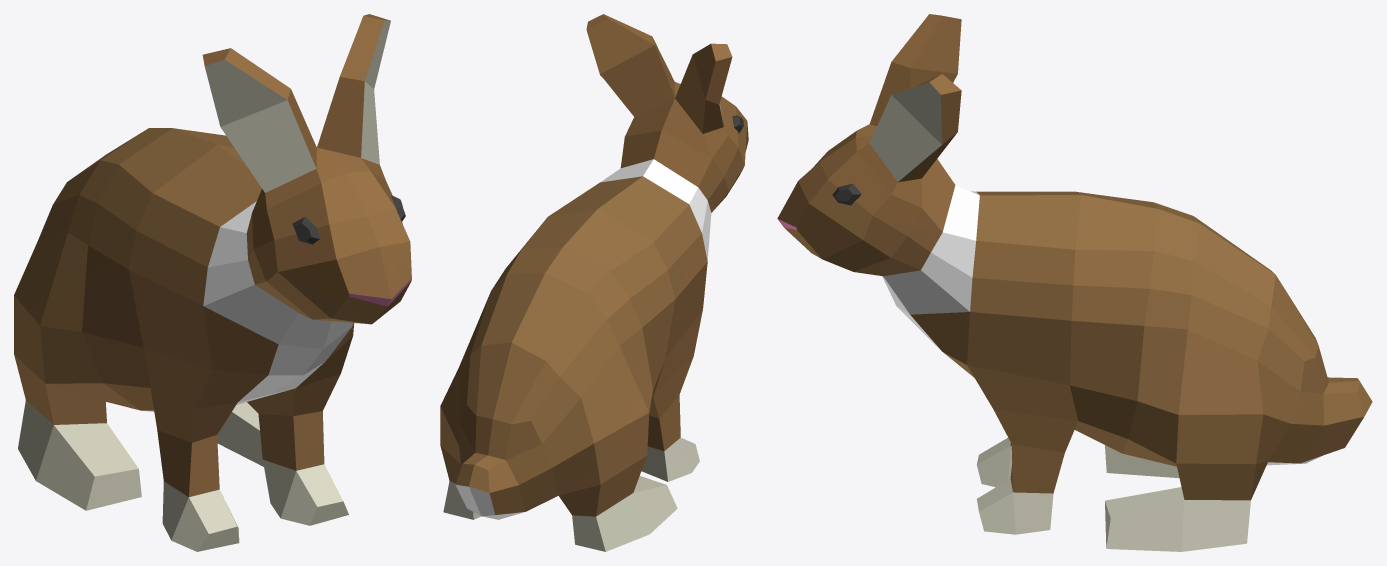
Rendered from bunny.fbx.
3 renders of one model, left to right at view 1: azimuth 30°, elevation 25°; view 2: azimuth 150°, elevation 25°; view 3: azimuth 270°, elevation 25°, orthographic. The views are drawn at different scales.
Parts seen in each view (by area): view 1: Plane.002; view 2: Plane.002; view 3: Plane.002.
Part boxes in pixels (x1,y1,x2,y2): Plane.002: (14, 14, 411, 551); Plane.002: (440, 14, 748, 551); Plane.002: (777, 14, 1372, 551).
Size of the model in its own units: 146 by 292 by 348.
1 material, 1 textured.
